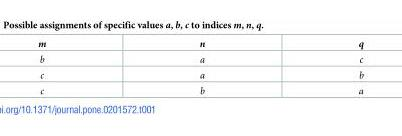table: (37, 36, 362, 96)
table column: (122, 36, 281, 96), (37, 36, 122, 96), (281, 36, 362, 96)
table column header: (37, 36, 362, 50)
table row: (37, 50, 362, 66), (37, 66, 362, 82), (37, 36, 362, 50), (37, 82, 362, 96)
